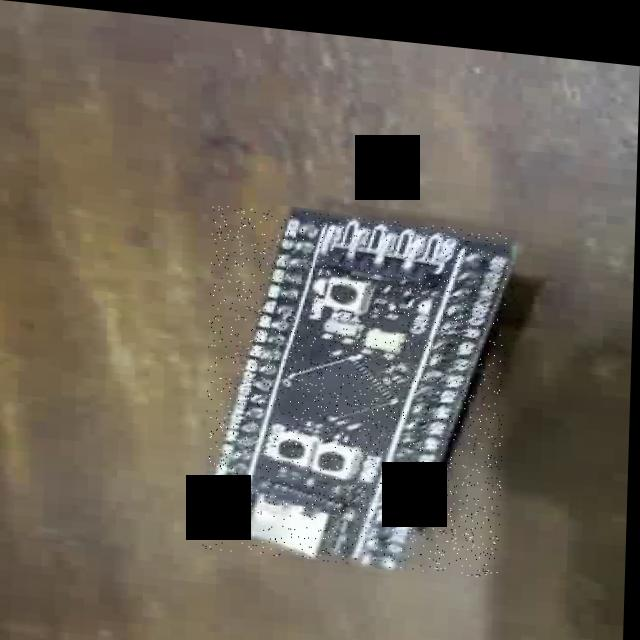stm32: (206, 198, 510, 568)
